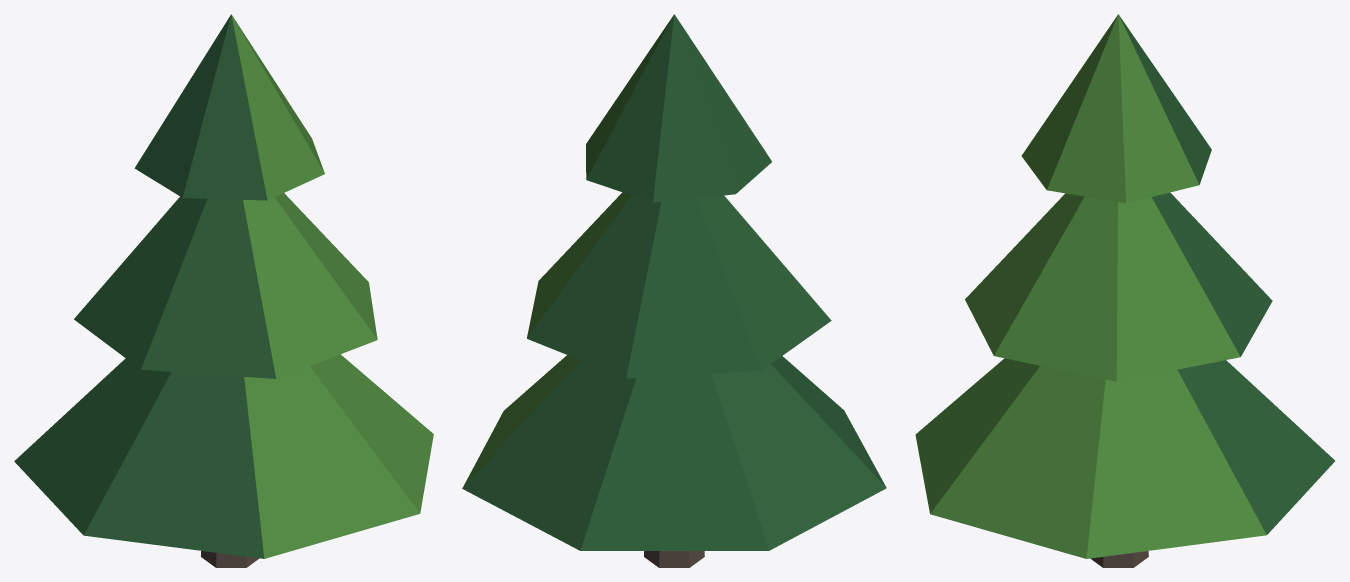
Rendered from Pine_Short.fbx.
The picture shows the model from 3 angles, left to right: view 1: azimuth 30°, elevation 25°; view 2: azimuth 150°, elevation 25°; view 3: azimuth 270°, elevation 25°; orthographic projection.
Parts seen in each view (by area): view 1: Pine_Short; view 2: Pine_Short; view 3: Pine_Short.
Part boxes in pixels (<box>): Pine_Short: <box>14,14,433,567</box>; Pine_Short: <box>462,14,886,567</box>; Pine_Short: <box>915,14,1334,567</box>.
Bounding box in the file's own units: 3.89 × 5.5 × 3.86.
